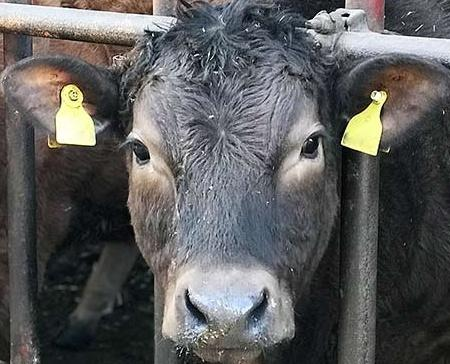muzzles: (156, 268, 301, 364)
